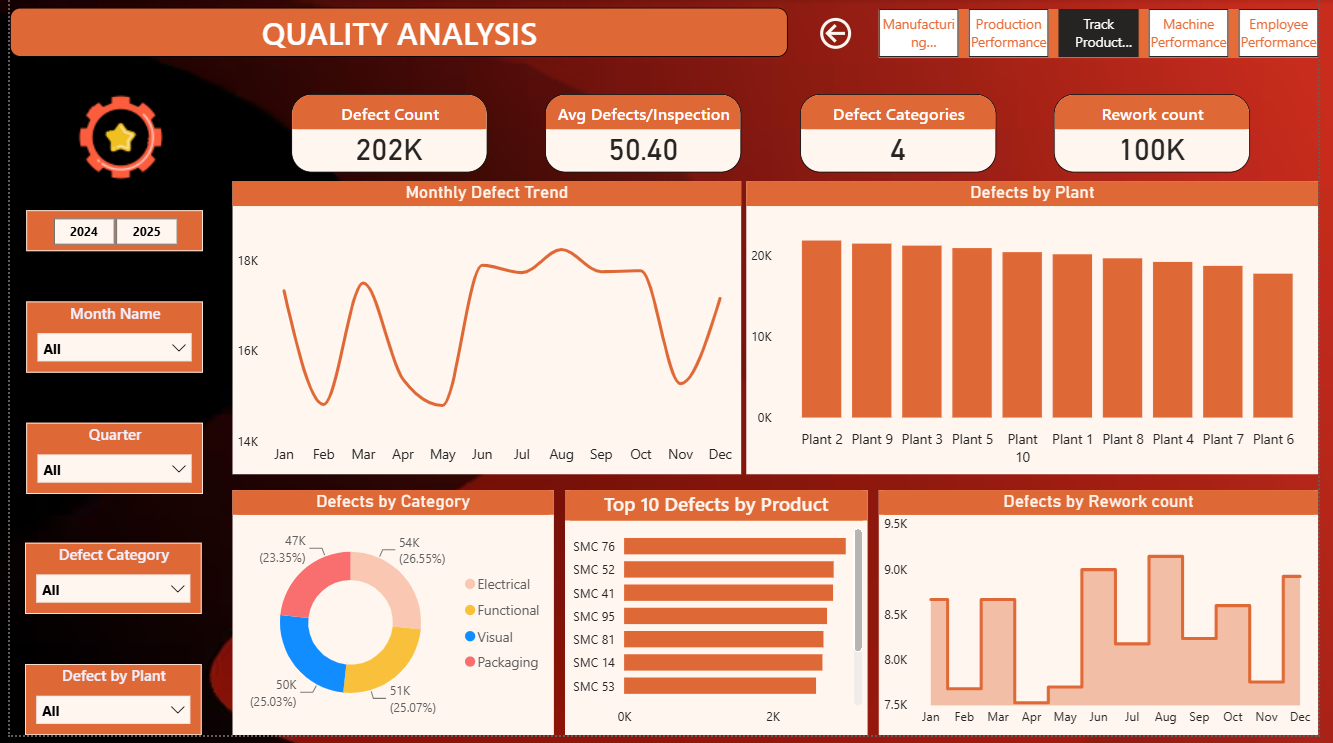

The page's visual inventory and layout, read from the dashboard file:
{"tool":"powerbi","page":{"name":"Track Product Quality","canvas":[1280,720],"ordinal":2},"visuals":[{"type":"textbox","title":"QUALITY ANALYSIS","box":[0,8.6,760.6,47.7],"z":0},{"type":"card","title":"Defect Count","fields":{"Values":["Measure Table.Total Defectcount"]},"box":[275.1,92.9,192,77],"z":1000},{"type":"card","title":"Rework count","fields":{"Values":["Measure Table.Total Rework Count"]},"box":[1021.1,92.9,192,77],"z":2000},{"type":"card","title":"Defect Categories","fields":{"Values":["Measure Table.Defect Categories"]},"box":[772.4,92.9,192,77],"z":3000},{"type":"donutChart","title":"Defects by Category","fields":{"Category":["Fact_Quality.DefectCategory"],"Y":["Sum(Fact_Quality.DefectCount)"]},"box":[217.7,480.6,314.3,239.7],"z":4000},{"type":"card","title":"Avg Defects/Inspection","fields":{"Values":["Measure Table.Average Defects Per Inspection"]},"box":[523.8,92.9,192,77],"z":5000},{"type":"lineChart","title":"Monthly Defect Trend","fields":{"Category":["Dim_Date.Month Short"],"Y":["Measure Table.Total Defectcount"]},"box":[217.7,178.5,497.7,286.1],"z":6000},{"type":"areaChart","title":"Defects by Rework count","fields":{"Category":["Dim_Date.Month Short"],"Y":["Measure Table.Total Rework Count"]},"box":[849.9,480.6,430.4,239.7],"z":7000},{"type":"clusteredColumnChart","title":"Defects by Plant","fields":{"Y":["Sum(Fact_Quality.DefectCount)"],"Category":["Dim_Plant.PlantName"]},"box":[720.2,178.5,560.1,286.1],"z":8000},{"type":"barChart","title":"Top 10 Defects by Product","fields":{"Category":["Dim_Product.ProductName"],"Y":["Sum(Fact_Quality.DefectCount)"]},"box":[542.9,480.6,295.9,239.7],"z":9000},{"type":"slicer","fields":{"Values":["Dim_Date.Year"]},"box":[15.9,206.7,172.4,40.4],"z":10000},{"type":"slicer","title":"Month Name","fields":{"Values":["Dim_Date.Month Short"]},"box":[15.9,295.6,172.4,69.7],"z":11000},{"type":"slicer","title":"Quarter","fields":{"Values":["Dim_Date.Quarter"]},"box":[15.9,413.9,172.4,69.7],"z":12000},{"type":"slicer","title":"Defect Category","fields":{"Values":["Fact_Quality.DefectCategory"]},"box":[14.7,532.2,172.4,69.7],"z":13000},{"type":"actionButton","box":[787.5,13.5,51.4,40.4],"z":14000},{"type":"slicer","title":"Defect by Plant","fields":{"Values":["Dim_Plant.PlantName"]},"box":[14.7,650.3,172.4,69.7],"z":15000},{"type":"image","box":[39.1,91.7,138.2,86.8],"z":16000},{"type":"pageNavigator","box":[849.9,9.8,430.4,47.7],"z":17000}]}

Visuals, with their boxes in screenshot pixels (x1, y1, x2, y2), scaled from the page's 1280x720 canvas onto the 1333x743 screenshot:
"QUALITY ANALYSIS" textbox: 0/9/792/58
"Defect Count" card: 286/96/486/175
"Rework count" card: 1063/96/1263/175
"Defect Categories" card: 804/96/1004/175
"Defects by Category" donutChart: 227/496/554/742
"Avg Defects/Inspection" card: 545/96/745/175
"Monthly Defect Trend" lineChart: 227/184/745/479
"Defects by Rework count" areaChart: 885/496/1332/742
"Defects by Plant" clusteredColumnChart: 750/184/1332/479
"Top 10 Defects by Product" barChart: 565/496/874/742
slicer - Dim_Date.Year: 17/213/196/255
"Month Name" slicer: 17/305/196/377
"Quarter" slicer: 17/427/196/499
"Defect Category" slicer: 15/549/195/621
actionButton: 820/14/874/56
"Defect by Plant" slicer: 15/671/195/742
image: 41/95/185/184
pageNavigator: 885/10/1332/59
